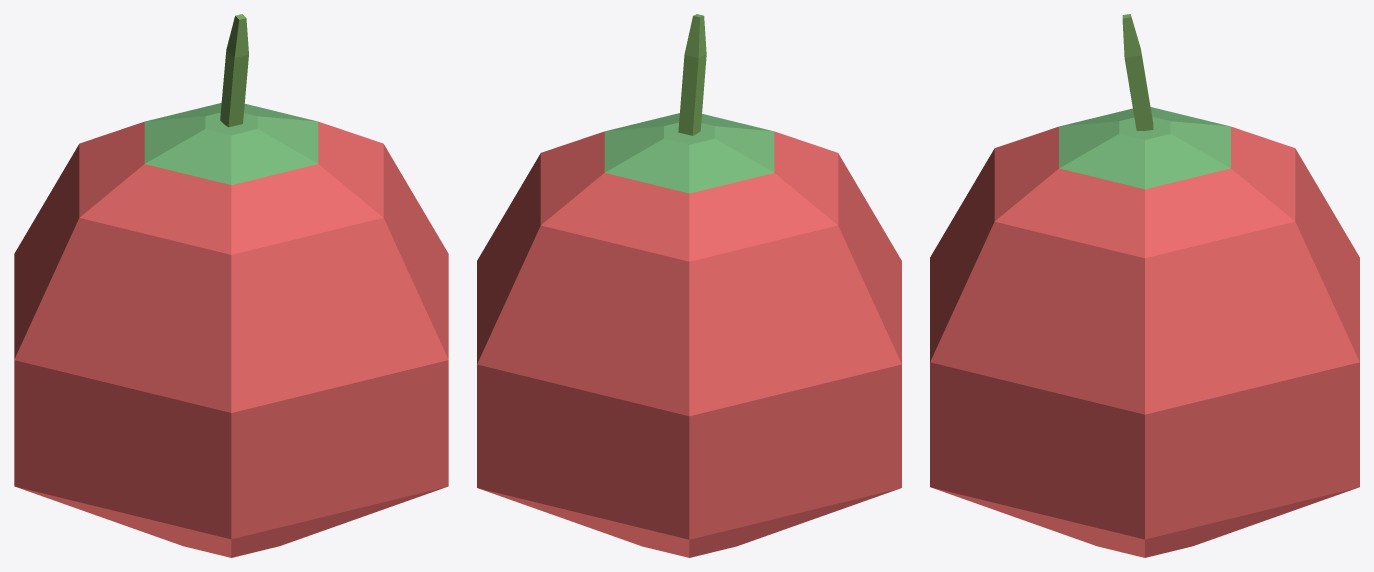
The model's file is tomato.glb.
3 renders of one model, left to right at view 1: azimuth 30°, elevation 25°; view 2: azimuth 150°, elevation 25°; view 3: azimuth 270°, elevation 25°, orthographic. The views are drawn at different scales.
Parts seen in each view (by area): view 1: body, calyx, stalk; view 2: body, calyx, stalk; view 3: body, calyx, stalk.
Boxes of the visible parts, x1,y1,x2,y2 form: body: (14,121,448,557); calyx: (144,103,318,184); stalk: (220,14,248,127); body: (477,131,901,557); calyx: (604,113,774,193); stalk: (678,14,706,135); body: (930,126,1359,557); calyx: (1059,107,1230,189); stalk: (1122,14,1153,130).
Bounding box in the file's own units: 1.8 × 2.08 × 1.56.
